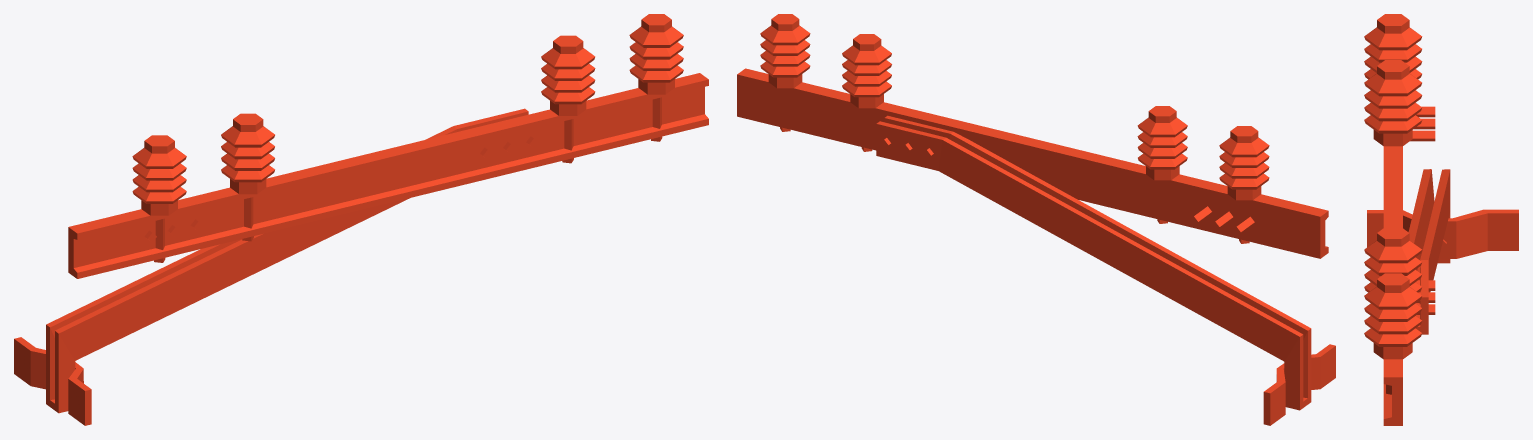
Rendered from SM_Pole_Electric_Wall_A_City.fbx.
3 views of the same model, side by side, from view 1: azimuth 30°, elevation 25°; view 2: azimuth 150°, elevation 25°; view 3: azimuth 270°, elevation 25° (orthographic). The views are drawn at different scales.
Parts seen in each view (by area): view 1: SM_Pole_Electric_Wall_A_City; view 2: SM_Pole_Electric_Wall_A_City; view 3: SM_Pole_Electric_Wall_A_City.
Part boxes in pixels (x1=…): SM_Pole_Electric_Wall_A_City: x1=14, y1=14, x2=708, y2=425; SM_Pole_Electric_Wall_A_City: x1=737, y1=14, x2=1335, y2=425; SM_Pole_Electric_Wall_A_City: x1=1364, y1=14, x2=1518, y2=425.
Size of the model in its own units: 1.9 by 0.753 by 0.3774.
